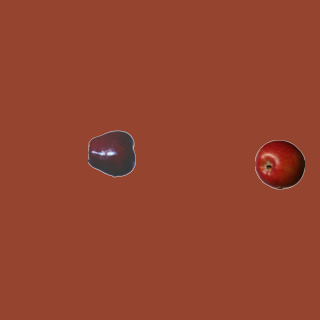Apple Braeburn: (254, 139, 304, 189)
Apple Red Delicious: (87, 128, 137, 178)
